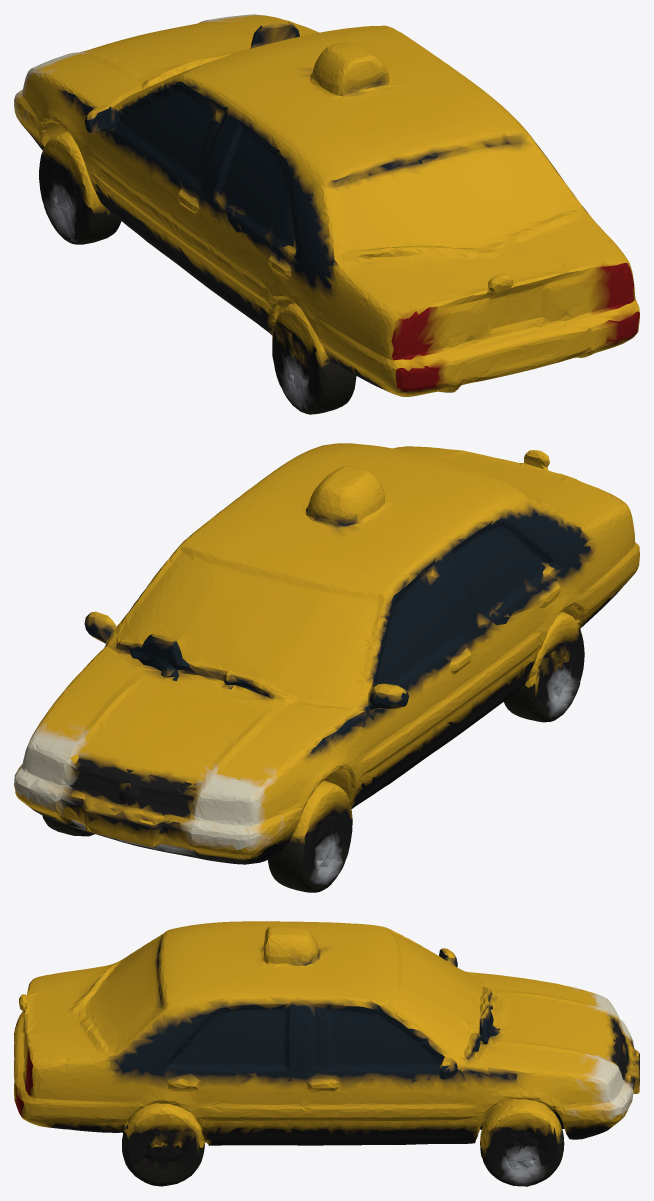
File: taxi.glb
3 views of the same model, one above another, from view 1: azimuth 30°, elevation 25°; view 2: azimuth 150°, elevation 25°; view 3: azimuth 270°, elevation 25° (orthographic). The views are drawn at different scales.
Parts seen in each view (by area): view 1: body, wheel_1, wheel_0; view 2: body, wheel_0, wheel_1; view 3: body, wheel_3, wheel_2.
Part boxes in pixels (left/top/right/bottom): body: left=14, top=14, right=639, bottom=408; wheel_1: left=272, top=343, right=356, bottom=414; wheel_0: left=39, top=170, right=121, bottom=244; body: left=14, top=443, right=639, bottom=864; wheel_0: left=267, top=818, right=352, bottom=892; wheel_1: left=504, top=649, right=584, bottom=722; body: left=14, top=921, right=639, bottom=1184; wheel_3: left=122, top=1139, right=322, bottom=1186; wheel_2: left=480, top=1142, right=564, bottom=1186.
Size of the model in its own units: 91.58 by 73.81 by 200.
